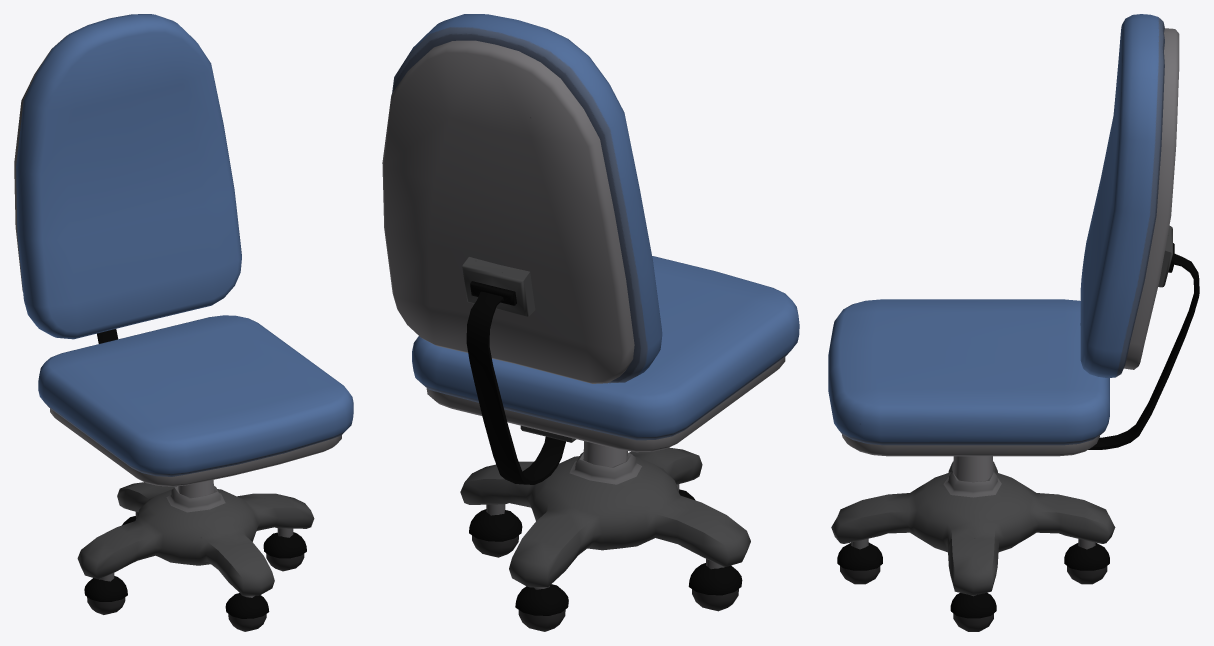
File: cadeira.fbx
3 views of the same model, side by side, from view 1: azimuth 30°, elevation 25°; view 2: azimuth 150°, elevation 25°; view 3: azimuth 270°, elevation 25° (orthographic). The views are drawn at different scales.
Visible parts, largest first — view 1: Cadeira; view 2: Cadeira; view 3: Cadeira.
Part boxes in pixels (x1=…): Cadeira: x1=14, y1=14, x2=353, y2=631; Cadeira: x1=382, y1=14, x2=799, y2=631; Cadeira: x1=828, y1=14, x2=1199, y2=631.
Size of the model in its own units: 158 by 73.52 by 96.13.
